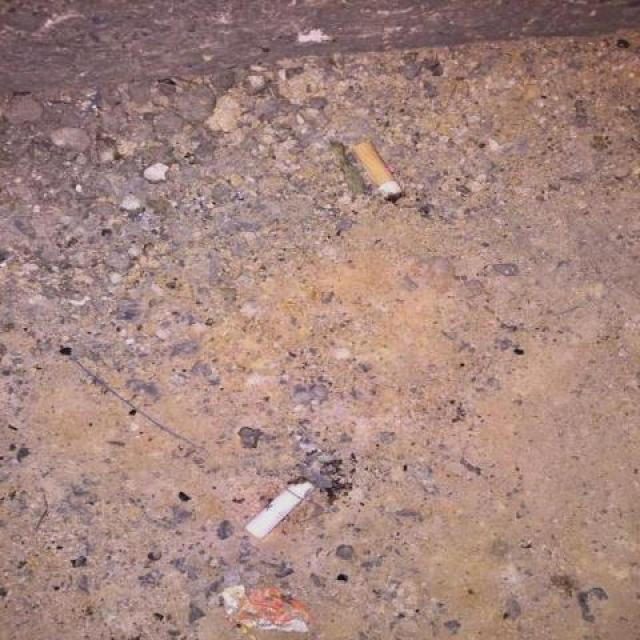non-organic waste: (242, 465, 321, 547), (350, 127, 406, 216)
